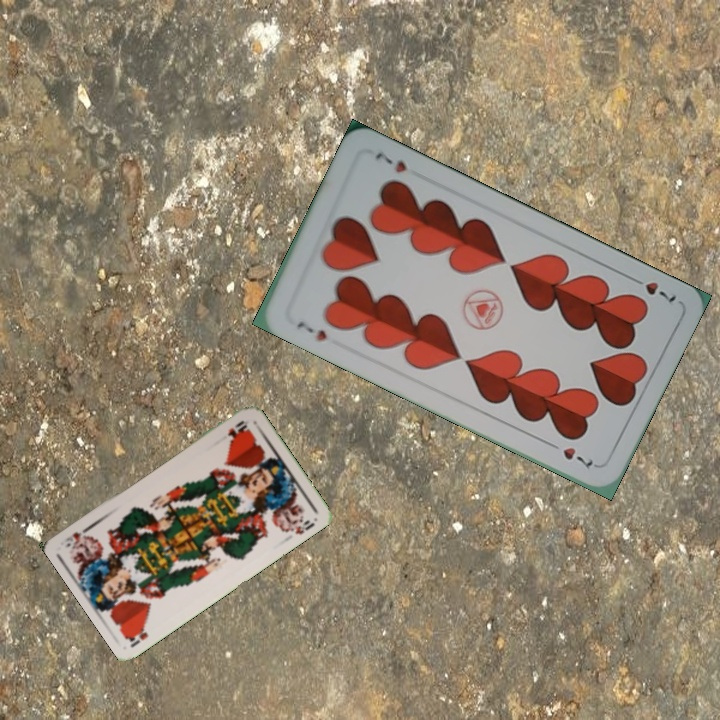H7: (625, 272, 679, 305), (292, 316, 330, 344)
HO: (123, 622, 151, 650), (223, 416, 250, 439)
